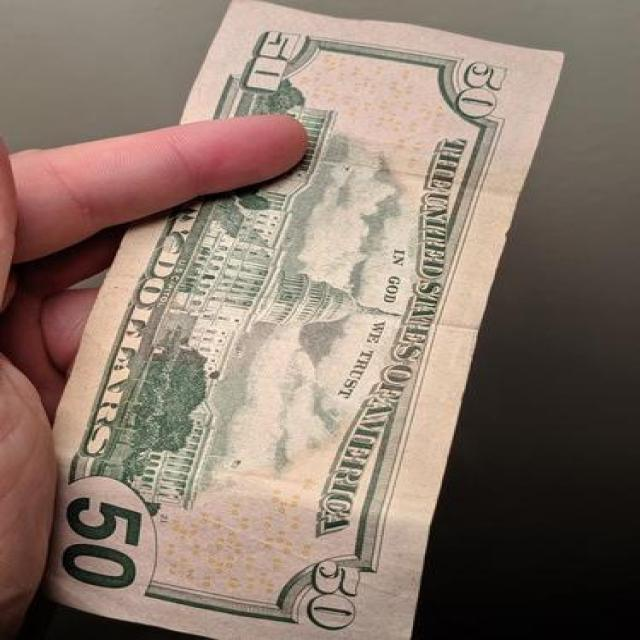50-Back: (34, 0, 574, 640)
